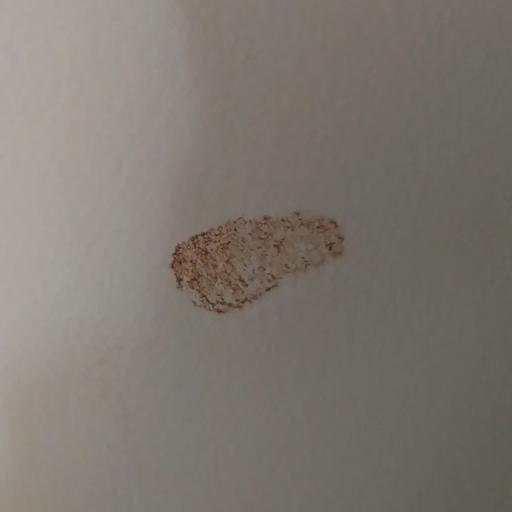stain: (151, 198, 394, 399)
